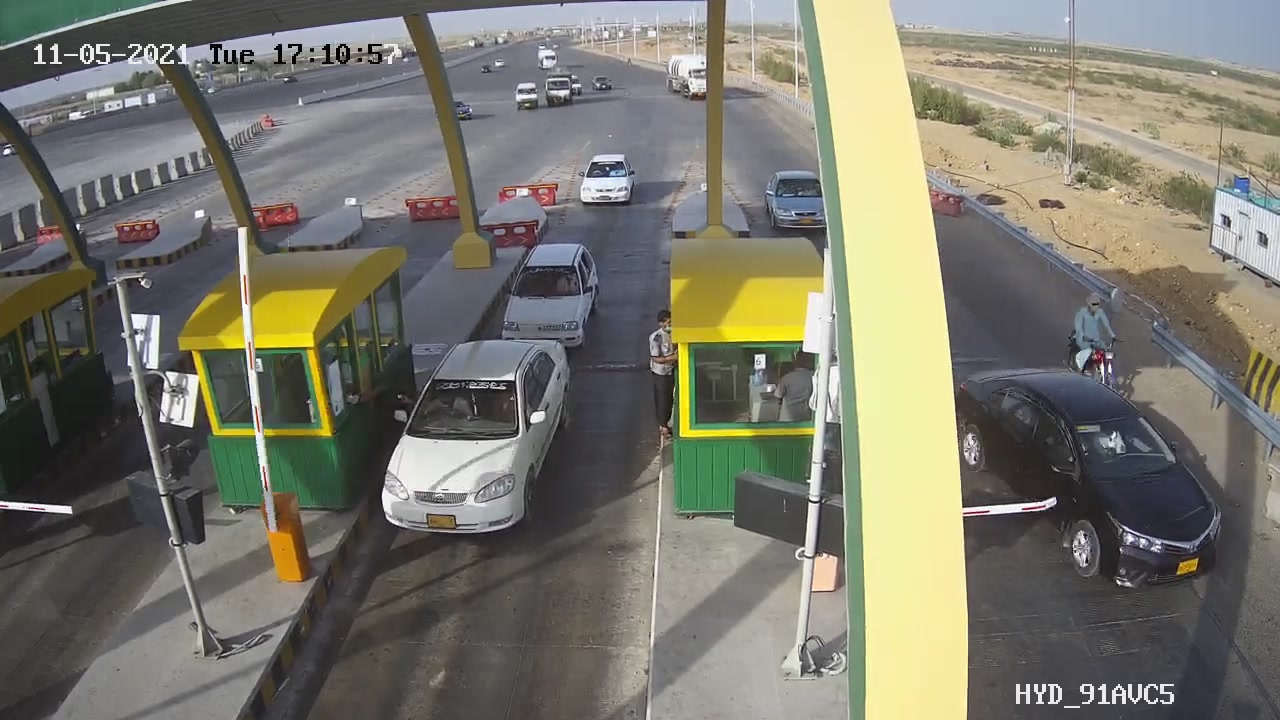F1: (368, 320, 590, 565), (487, 230, 618, 365)
